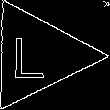L_N: (19, 30, 56, 81)
